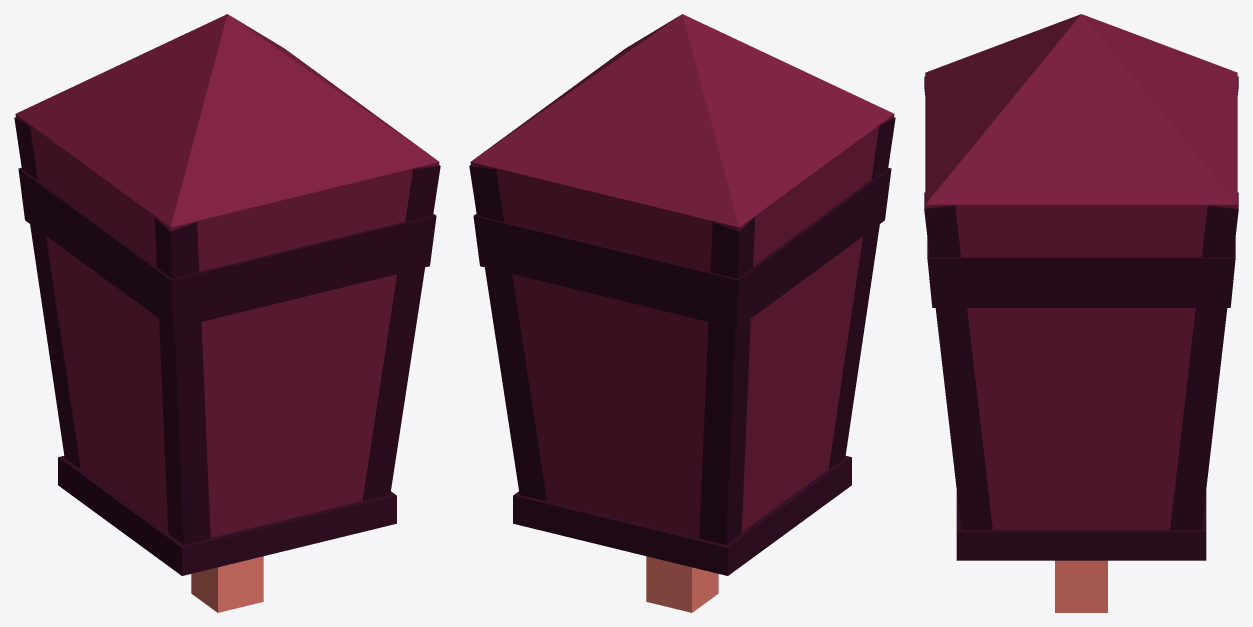
File: lantern_bake.glb
3 views of the same model, side by side, from view 1: azimuth 30°, elevation 25°; view 2: azimuth 150°, elevation 25°; view 3: azimuth 270°, elevation 25° (orthographic).
Parts seen in each view (by area): view 1: Lantern; view 2: Lantern; view 3: Lantern.
Boxes of the visible parts, x1=… form: Lantern: x1=14, y1=14, x2=440, y2=612; Lantern: x1=469, y1=14, x2=895, y2=612; Lantern: x1=924, y1=14, x2=1238, y2=612.
Size of the model in its own units: 0.4436 by 0.914 by 0.4434.
